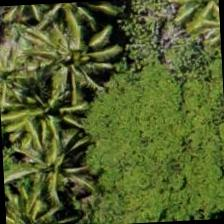Kelapa_Sawit: (12, 16, 107, 111), (2, 121, 96, 216), (171, 0, 222, 46)
